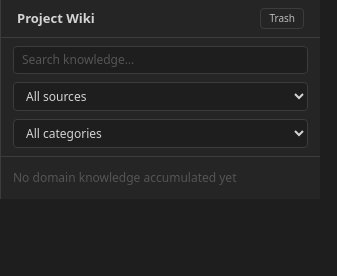
Scenario: WikiPanel › 휴지통 토글 시 getDeletedKnowledge로 삭제 항목을 조회하고 복구 버튼을 표시한다
This screenshot has width=337, height=276.
Click the button with test id "wiki-trash-toggle": coordinates (282, 18) 260,8 -> 304,29
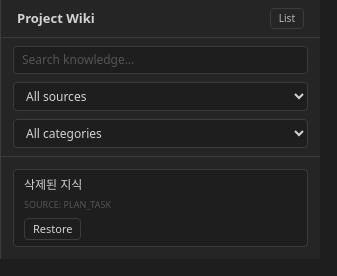
Result: the element with test id "wiki-item" shows "삭제된 지식" at 24,176 -> 82,193
Result: the button with test id "wiki-item-restore" is shown at 24,218 -> 82,240
